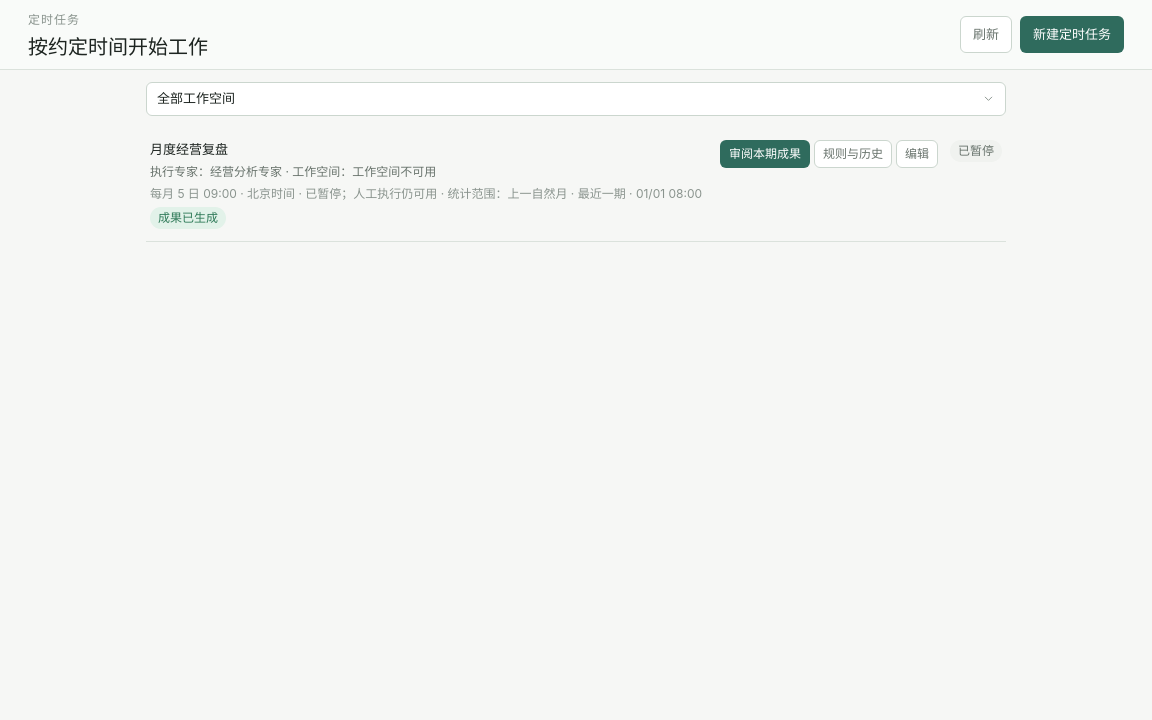
Test: SchedulesPage › opens the period detail when a generated period has multiple result versions
Click the button "审阅本期成果".
click(765, 154)  # box left=720, top=140, right=810, bottom=168
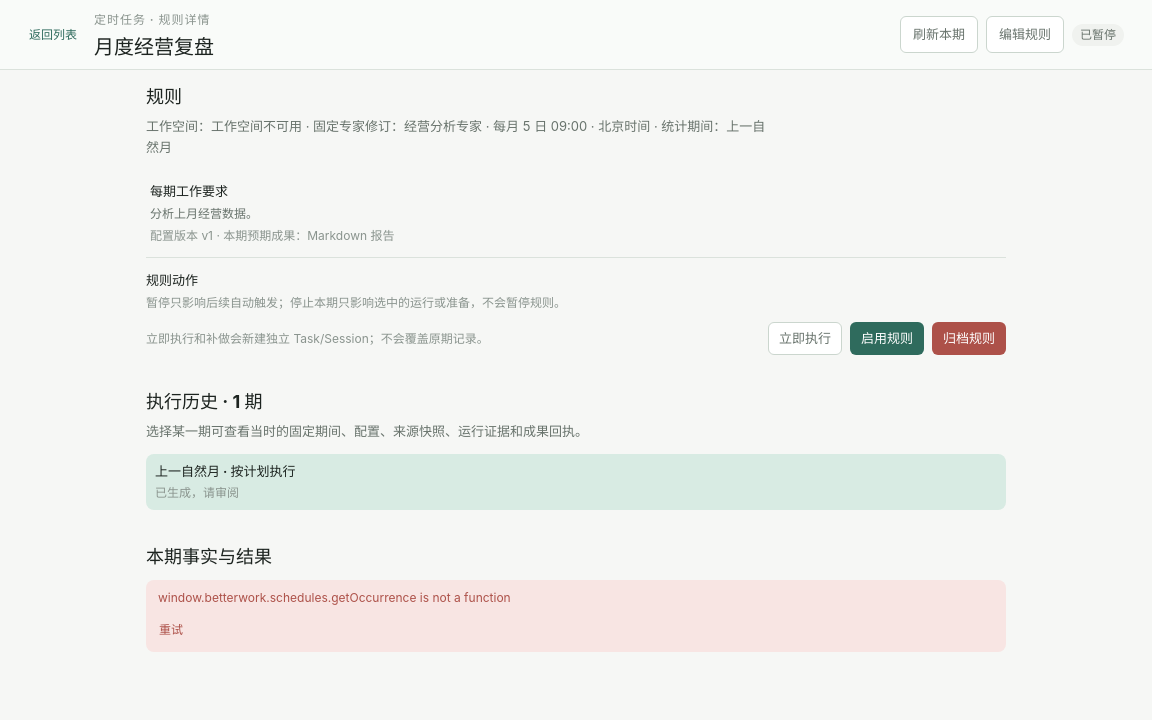
Result: the element named "定时任务详情" is shown at left=146, top=86, right=1006, bottom=652
